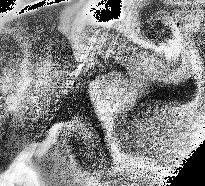CE: (132, 1, 187, 58)
